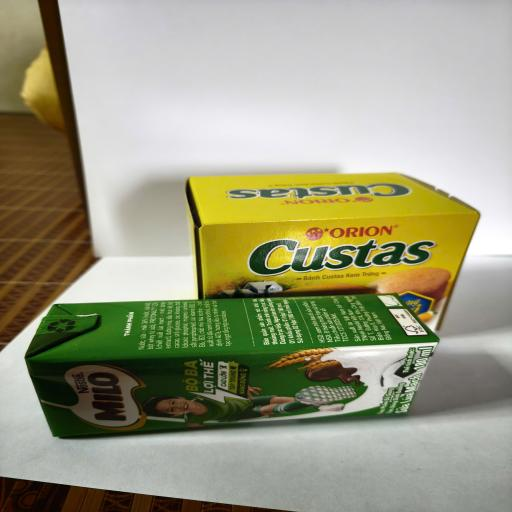custas: (186, 172, 482, 332)
milo: (24, 292, 440, 437)
